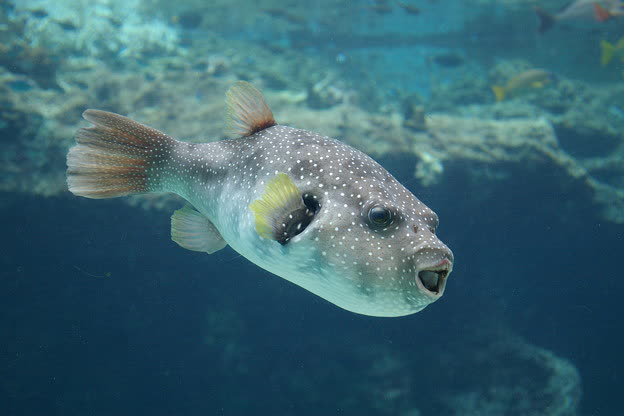hugu: (132, 59, 443, 340)
